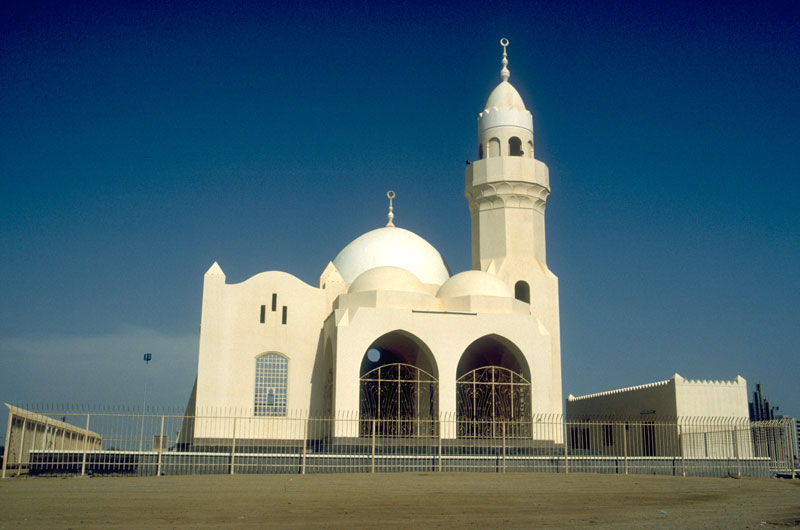Mosque: (187, 74, 569, 442)
